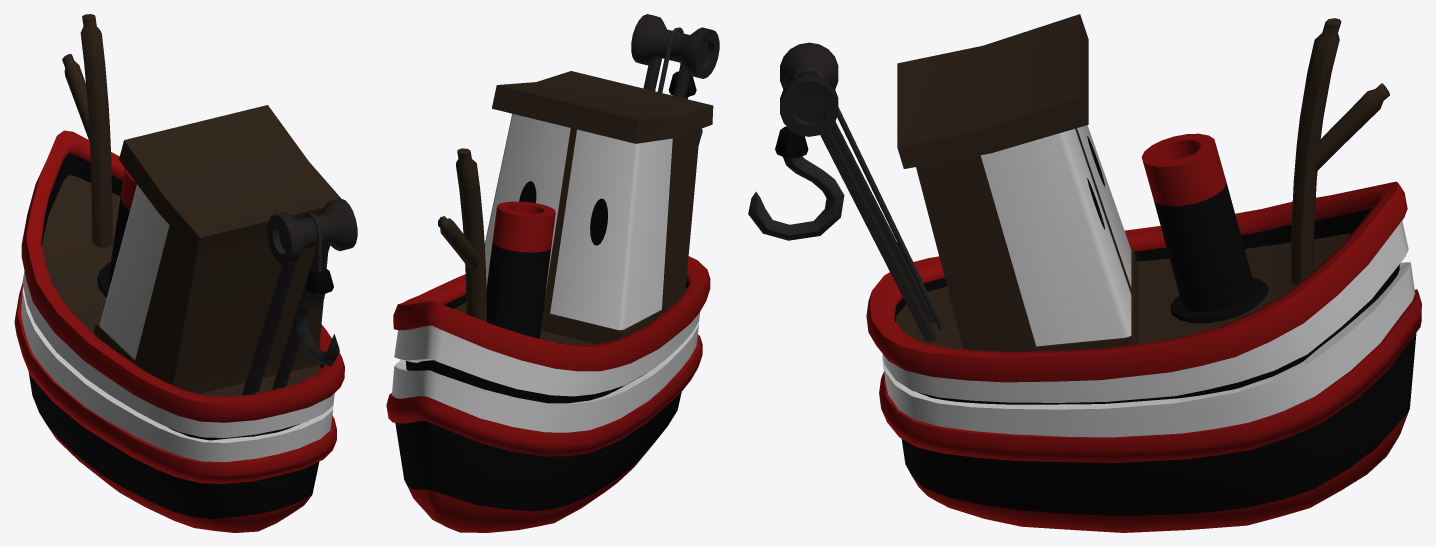
The model's file is PuffyStylized.fbx.
3 views of the same model, side by side, from view 1: azimuth 30°, elevation 25°; view 2: azimuth 150°, elevation 25°; view 3: azimuth 270°, elevation 25° (orthographic). The views are drawn at different scales.
Visible parts, largest first — view 1: Object012, Object011, UpperMouth, Hook, Object009; view 2: Object012, UpperMouth, Object011, Eyes; view 3: Object012, UpperMouth, Object011, Hook, Object009.
Boxes of the visible parts, x1,y1,x2,y2 form: Object012: (14,14,357,532); Object011: (94,105,340,393); UpperMouth: (21,130,344,437); Hook: (295,268,339,366); Object009: (41,153,122,246); Object012: (386,14,719,532); UpperMouth: (393,256,710,396); Object011: (492,71,713,344); Eyes: (519,181,607,245); Object012: (780,18,1421,532); UpperMouth: (866,181,1408,402); Object011: (897,14,1138,351); Hook: (748,126,844,240); Object009: (894,208,1372,321).
Size of the model in its own units: 22.76 by 42.31 by 52.37.
